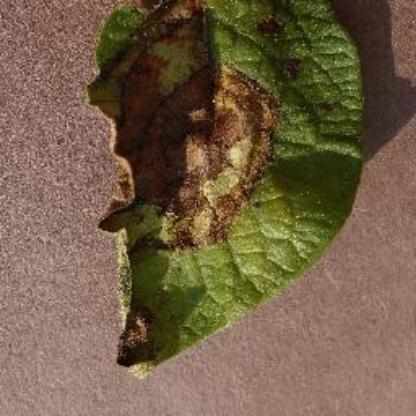Late-Blight: (72, 0, 369, 374)
